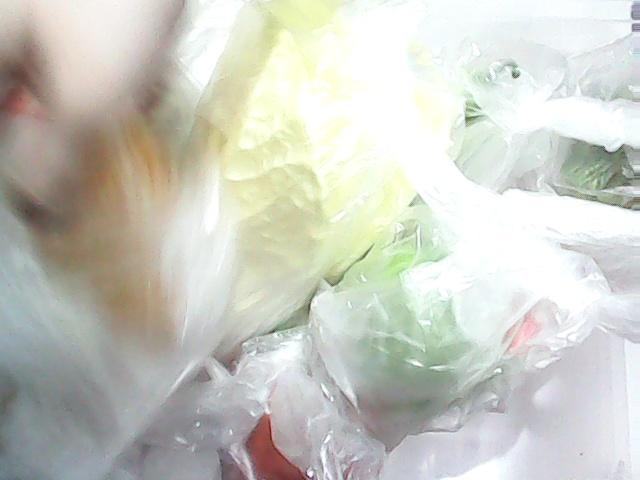cabbage: (334, 209, 532, 427), (464, 19, 640, 203)
carrot: (501, 297, 547, 356)
lemon: (17, 86, 195, 370)
napa cabbage: (116, 2, 448, 379)
peach: (218, 352, 388, 480)
